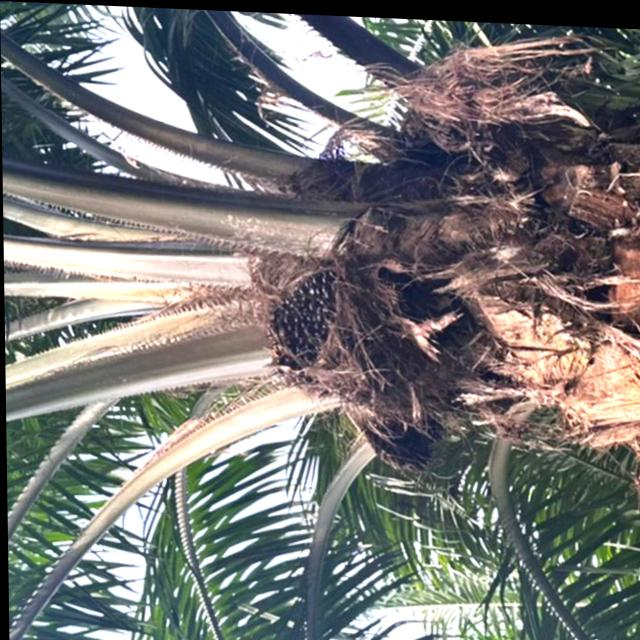ripe: (256, 246, 364, 396)
